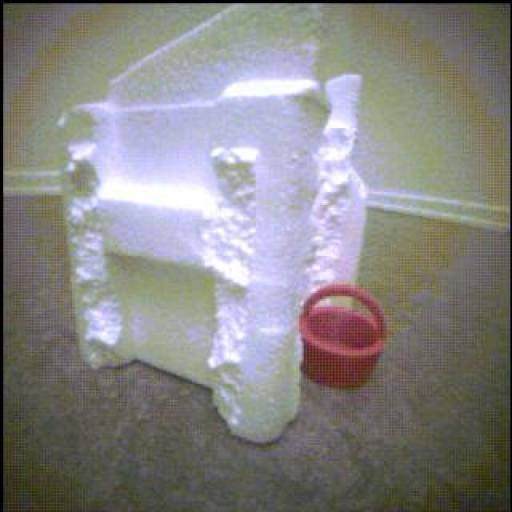Bucket: (300, 284, 387, 388)
